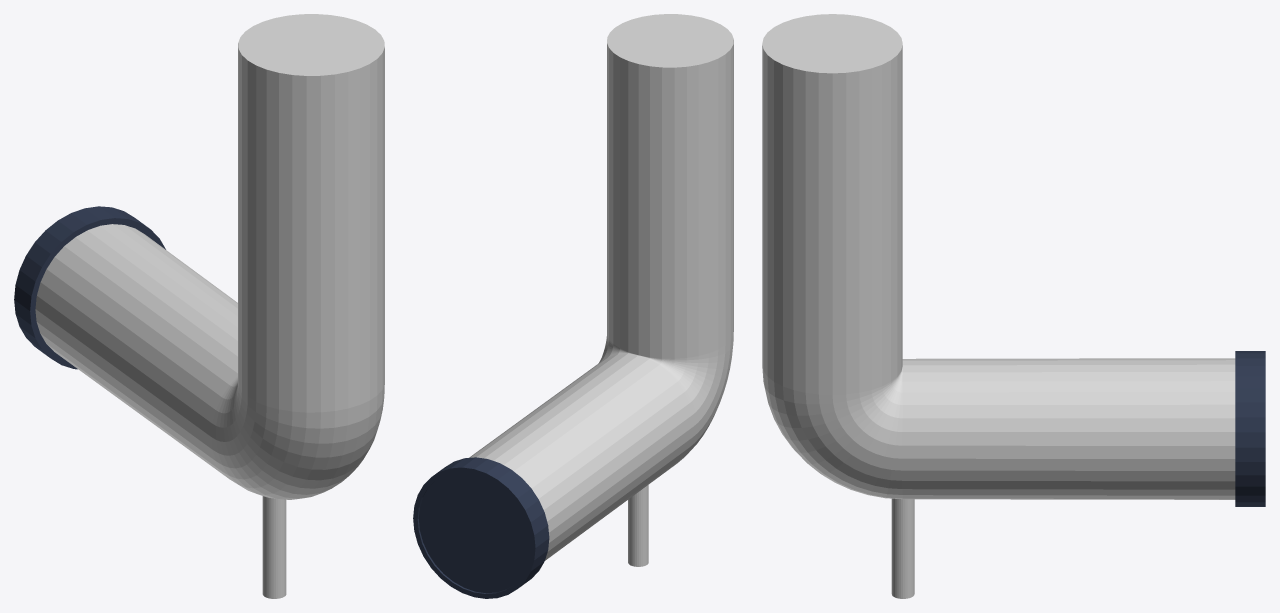
File: Pipesegment_straight-up_blank.fbx
3 views of the same model, side by side, from view 1: azimuth 30°, elevation 25°; view 2: azimuth 150°, elevation 25°; view 3: azimuth 270°, elevation 25° (orthographic). The views are drawn at different scales.
Visible parts, largest first — view 1: Pipe-Segment_straight, Pipe-foot; view 2: Pipe-Segment_straight, Pipe-foot; view 3: Pipe-Segment_straight, Pipe-foot.
Part boxes in pixels (<box>): Pipe-Segment_straight: <box>14,14,384,499</box>; Pipe-foot: <box>262,496,286,598</box>; Pipe-Segment_straight: <box>413,14,733,598</box>; Pipe-foot: <box>628,485,648,566</box>; Pipe-Segment_straight: <box>762,14,1265,506</box>; Pipe-foot: <box>891,498,914,598</box>.
Bounding box in the file's own units: 110 × 428 × 355.
